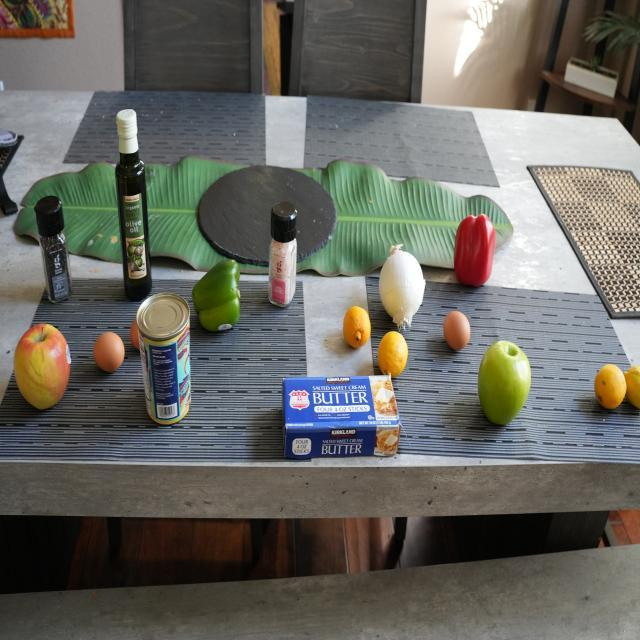bell_pepper: (32, 195, 76, 299), (193, 261, 245, 334), (453, 213, 501, 289)
egg: (441, 310, 473, 356), (94, 330, 125, 374)
onion: (378, 243, 431, 330)
